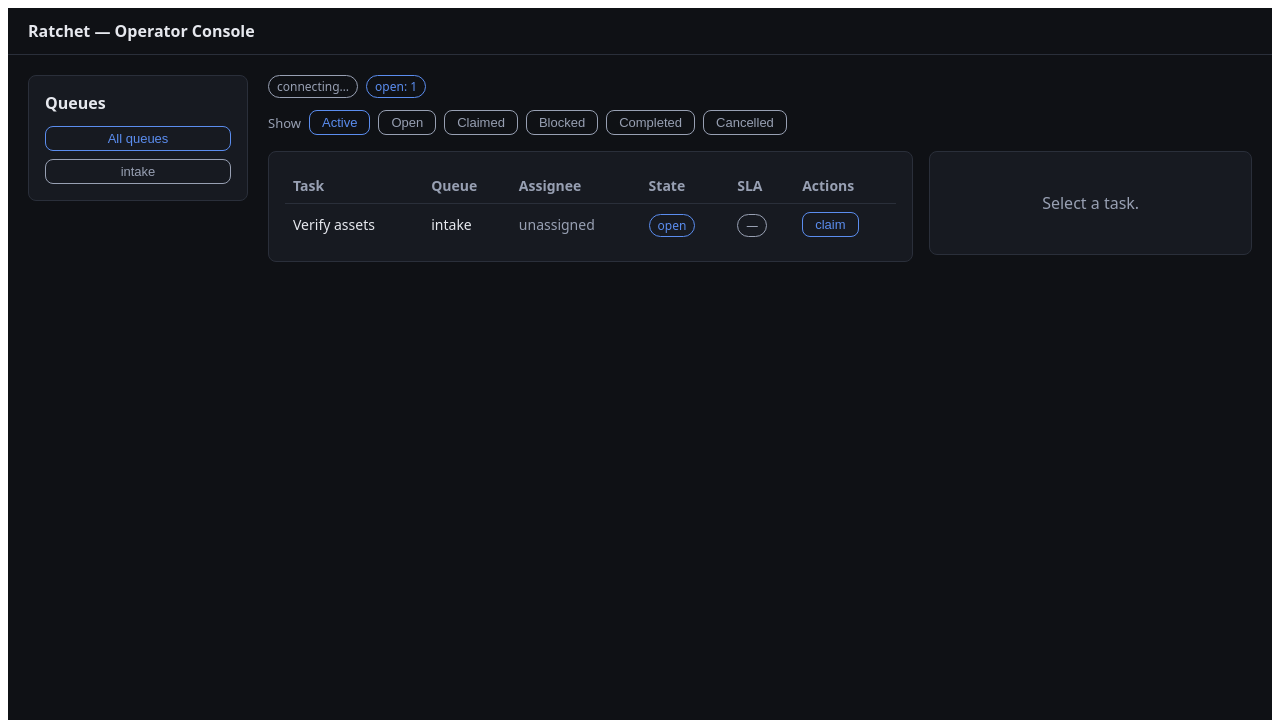
it: cancel sits in the detail panel and needs a second click
The width and height of the screenshot is (1280, 720).
Expected: the text "cancel task" is not shown
Click the text "Verify assets": {"x": 354, "y": 224} [285,204,423,245]
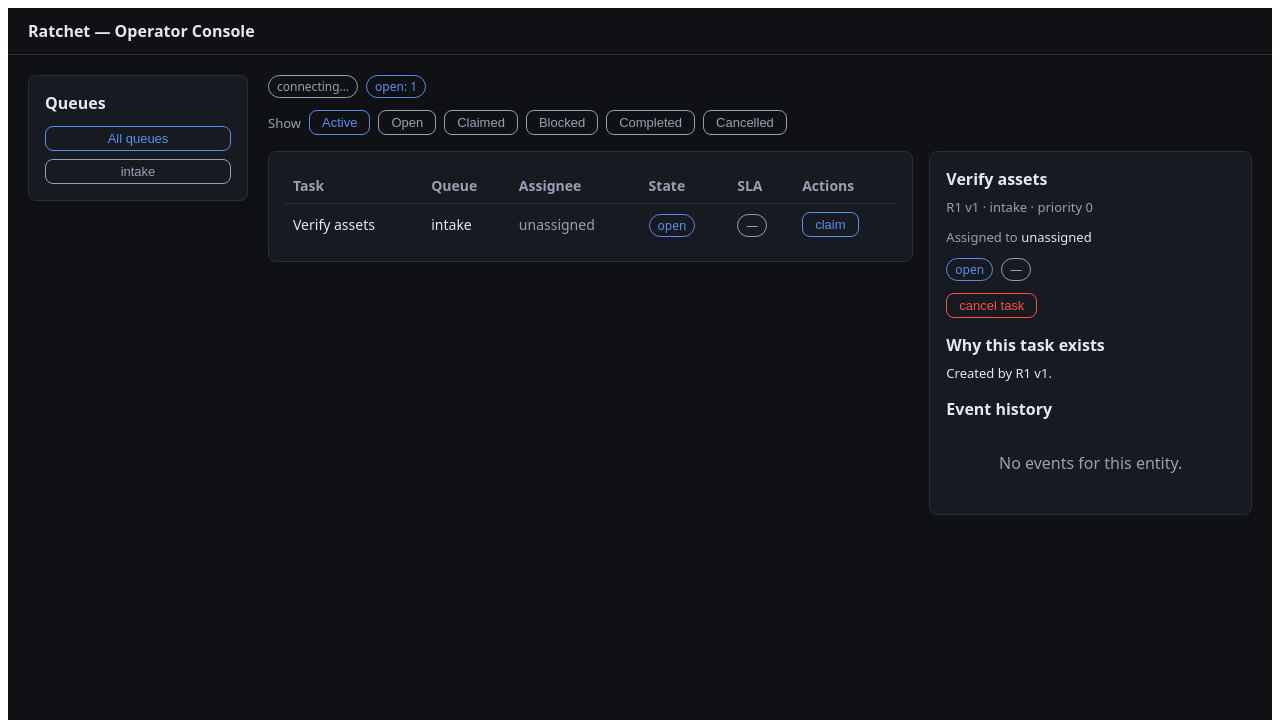
Click the button "cancel task": {"x": 992, "y": 306} [946,293,1037,318]
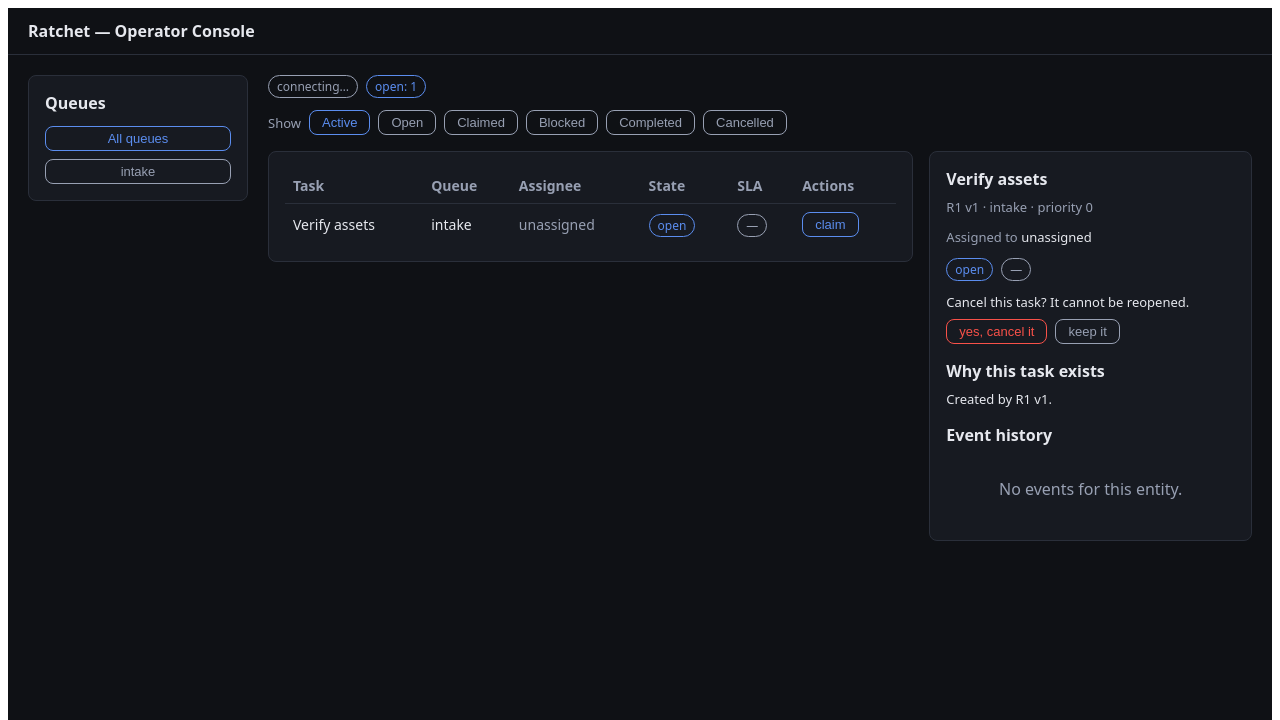
Click the button "yes, cancel it": {"x": 997, "y": 332} [946,319,1048,344]
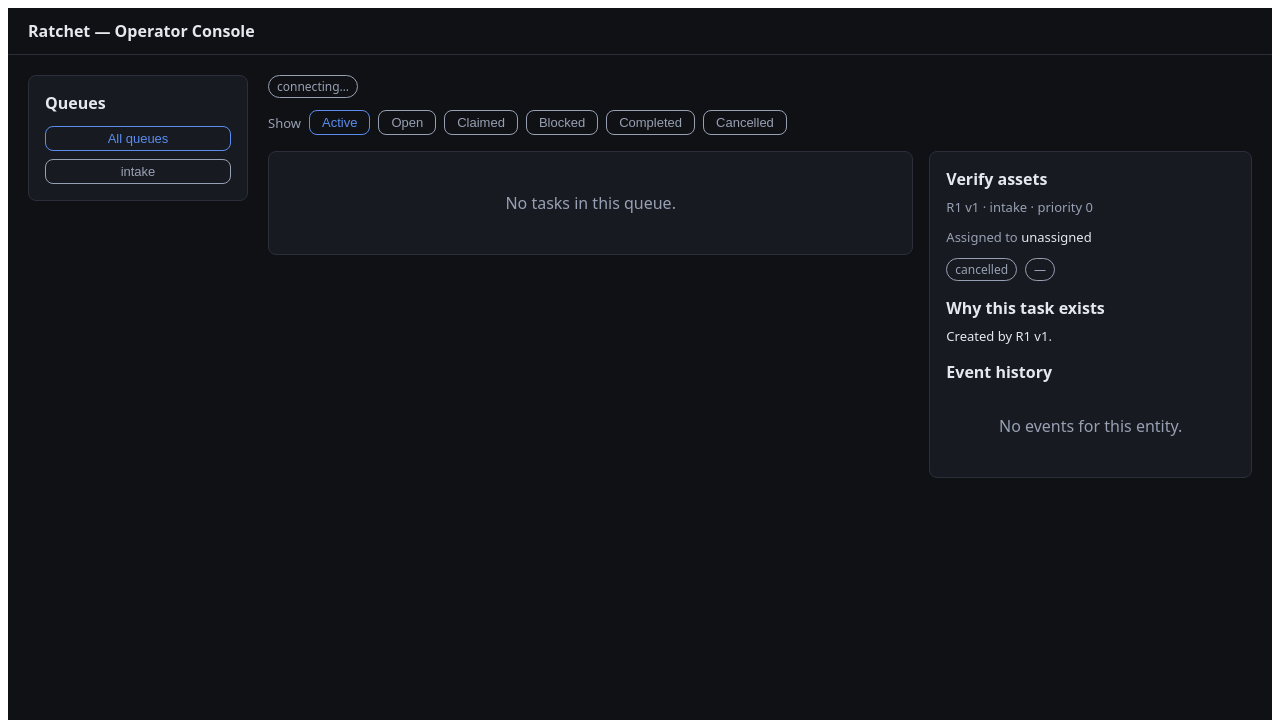
Expected: the button "cancel task" is not shown
Expected: the text "No tasks in this queue." is shown, [505,192,676,214]
Expected: the text "cancelled" is shown, [946,258,1017,281]
